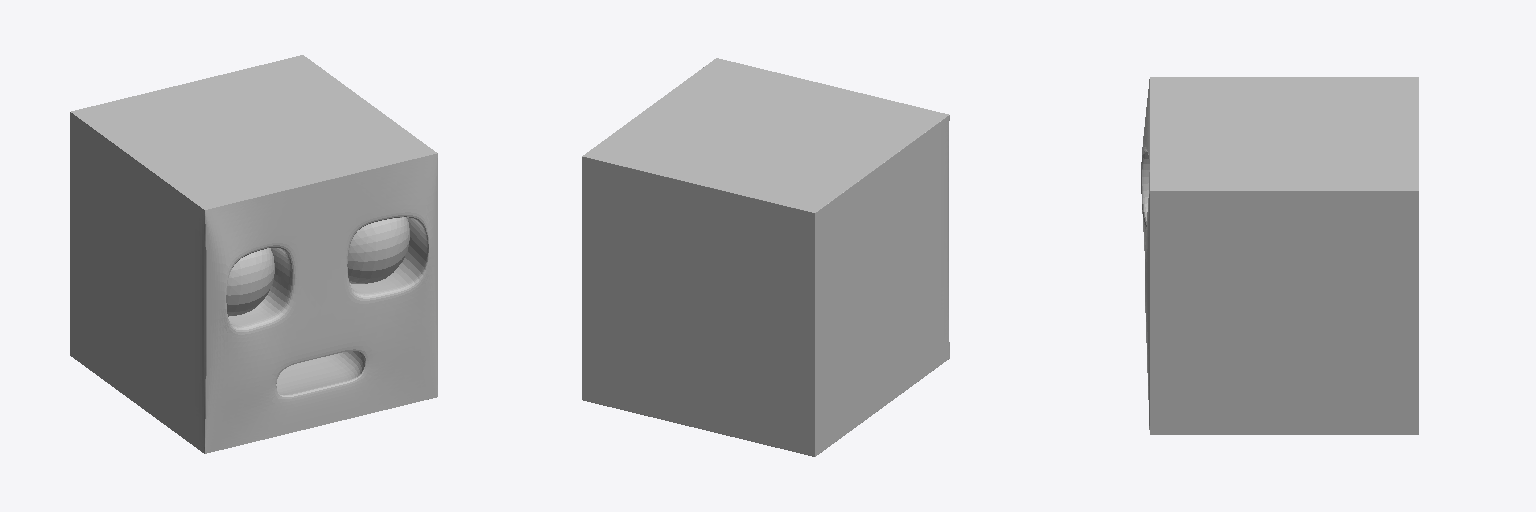
File: cubo.obj
3 views of the same model, side by side, from view 1: azimuth 30°, elevation 25°; view 2: azimuth 150°, elevation 25°; view 3: azimuth 270°, elevation 25° (orthographic).
Visible parts, largest first — view 1: Body, Eye2, Eye1; view 2: Body; view 3: Body.
Boxes of the visible parts, box(x1,y1,x2,y2) form: Body: box(70, 55, 437, 453); Eye2: box(347, 217, 409, 283); Eye1: box(226, 248, 274, 316); Body: box(582, 58, 949, 456); Body: box(1141, 77, 1418, 434).
Size of the model in its own units: 200 by 200 by 206.